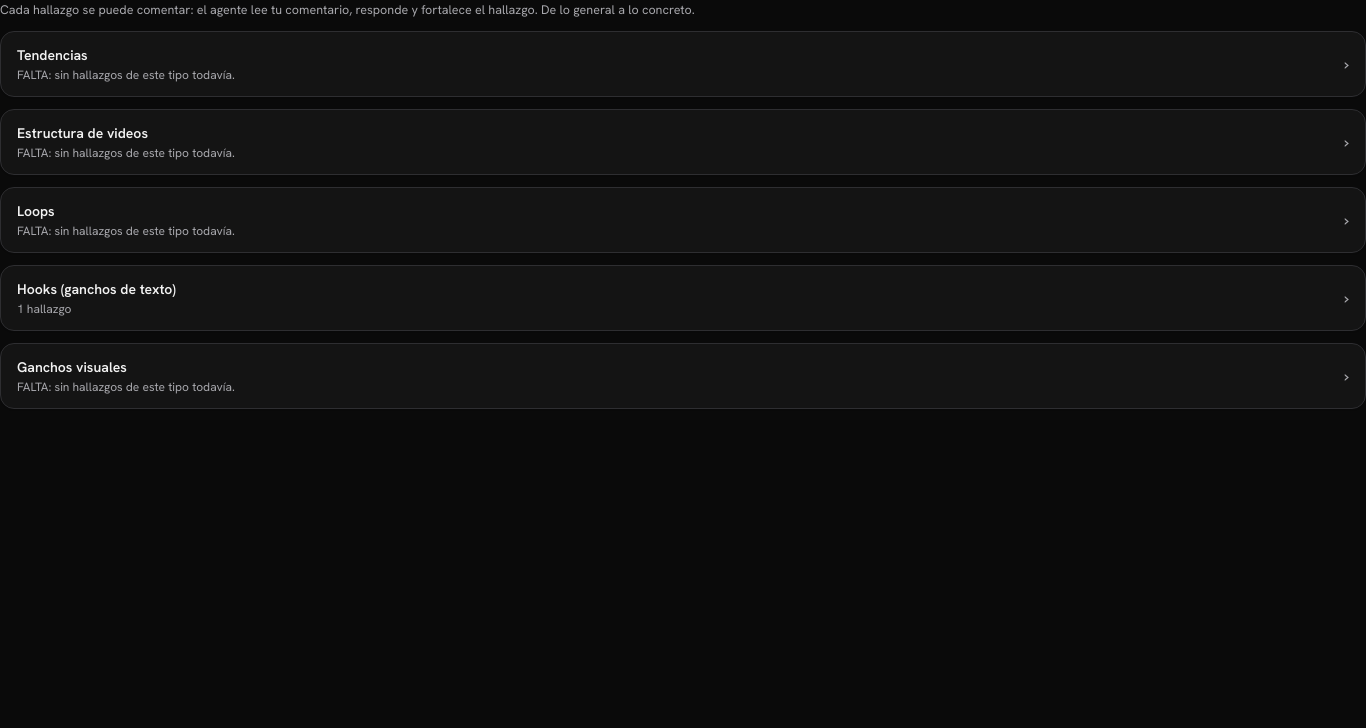
Scenario: InvestigacionInteractiva › un comentario con un contacto no se envía y dice por qué
Click the button "Hooks (ganchos de texto) 1 hallazgo ›" at x=96, y=289, box [1,266,1365,330]
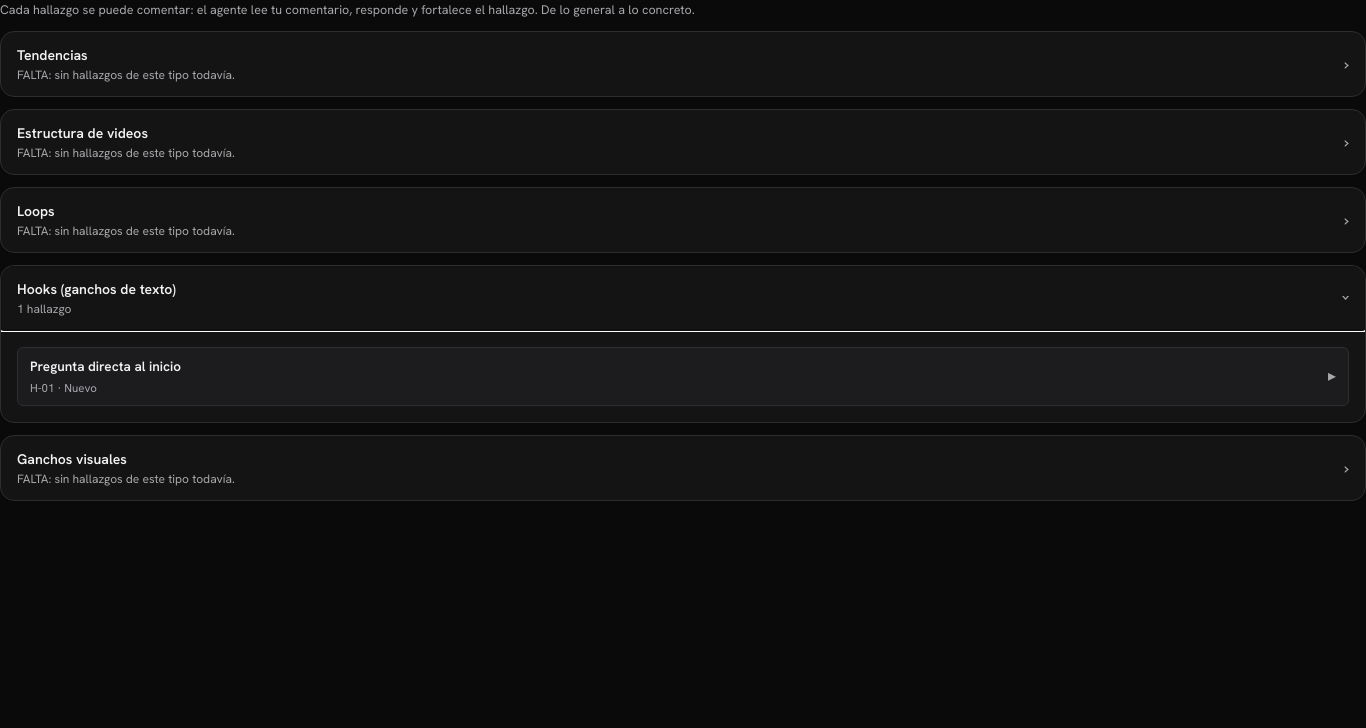
Click the button "Pregunta directa al inicio H-01 · Nuevo ▸" at x=105, y=366, box [18,348,1348,405]
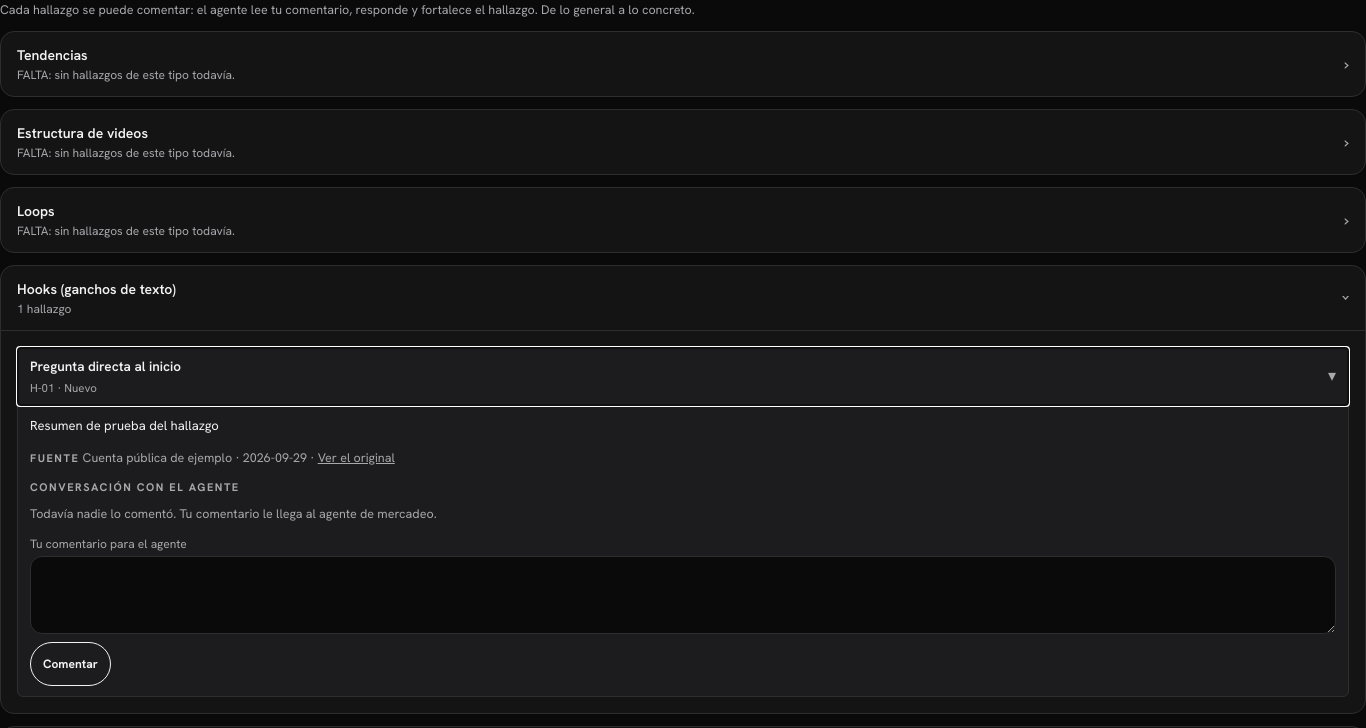
Type "escríbele a alguien@ejemplo.test" into the text box labelled "Tu comentario para el agente" at x=683, y=595, box [30,556,1336,634]
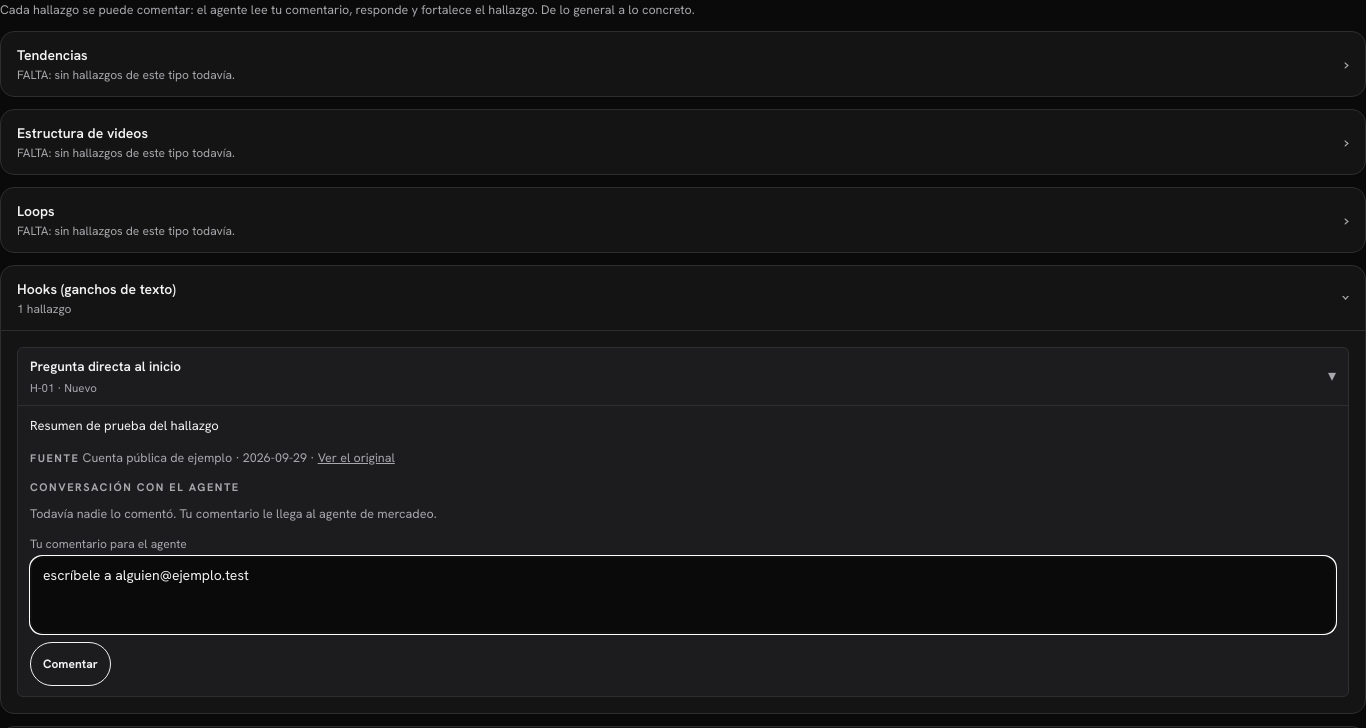
Click the button "Comentar" at x=70, y=664, box [30,642,111,686]
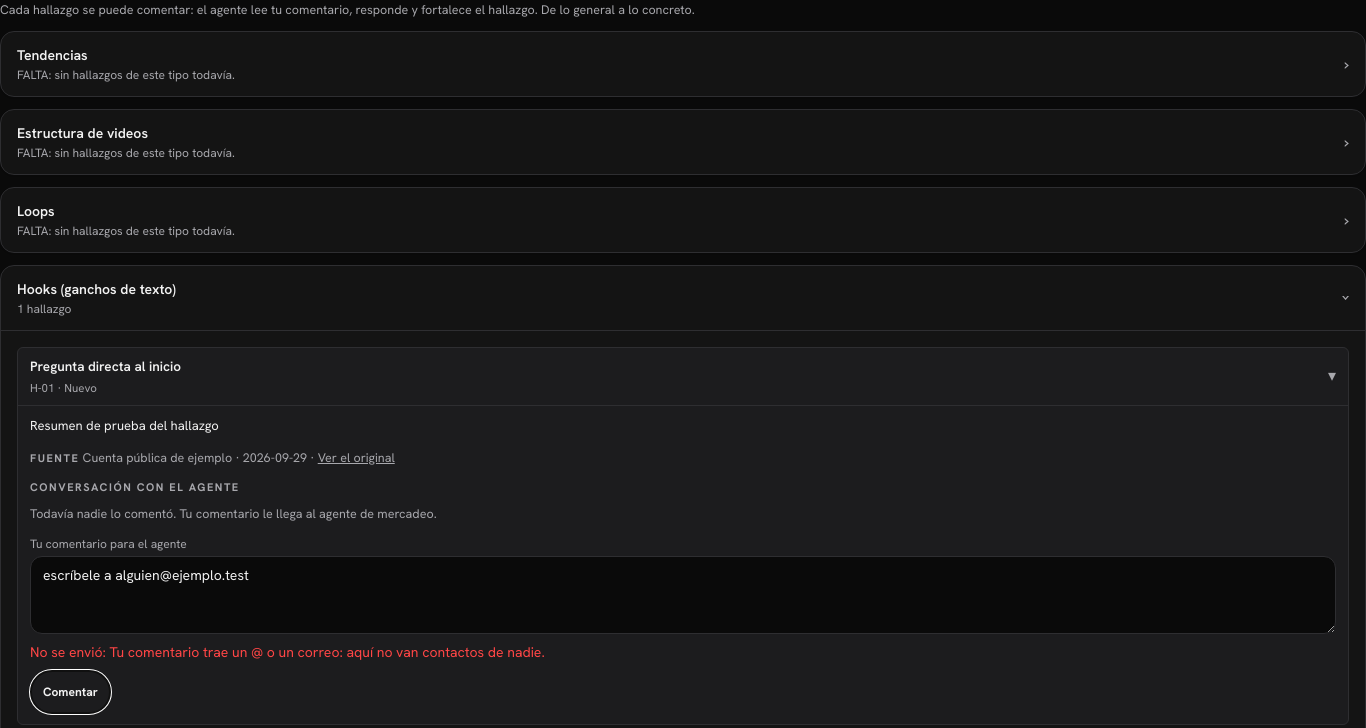
Expected: the message shows "@", [110,643,545,661]
